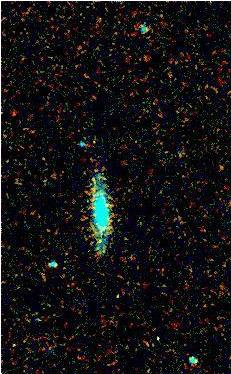star: (89, 225, 119, 255)
